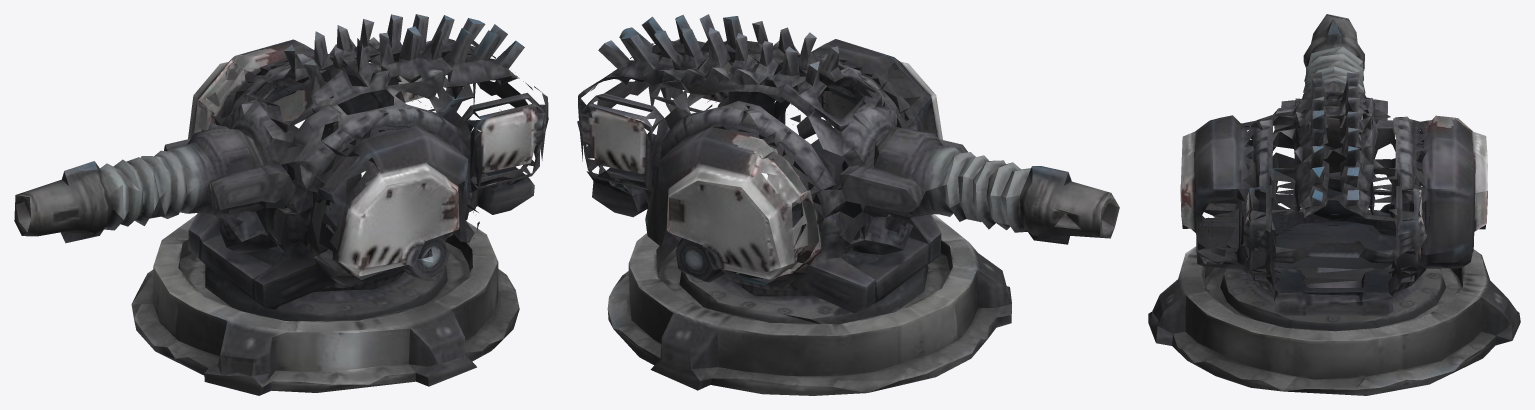
3 renders of one model, left to right at view 1: azimuth 30°, elevation 25°; view 2: azimuth 150°, elevation 25°; view 3: azimuth 270°, elevation 25°, orthographic. The views are drawn at different scales.
Visible parts, largest first — view 1: body; view 2: body; view 3: body.
Part boxes in pixels (box(x1,y1,x2,y2)): body: box(14, 14, 548, 395); body: box(577, 14, 1119, 395); body: box(1148, 14, 1520, 395).
Bounding box in the file's own units: 2.39 × 1.26 × 1.71.
1 material, 1 textured.
